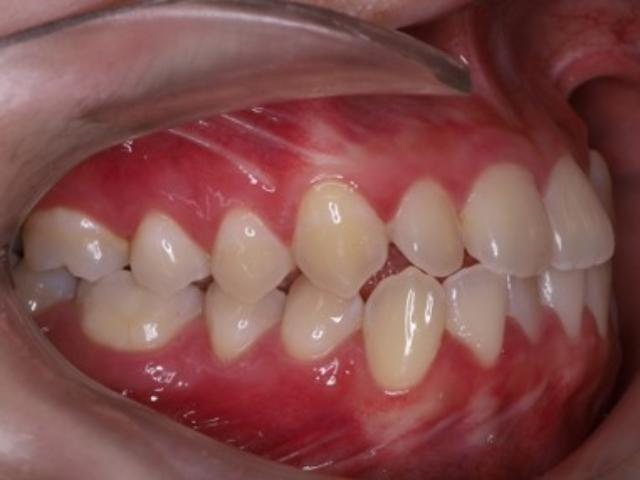canine class III 1/4: (282, 168, 452, 410)
molar class III 3/4: (19, 205, 204, 385)
